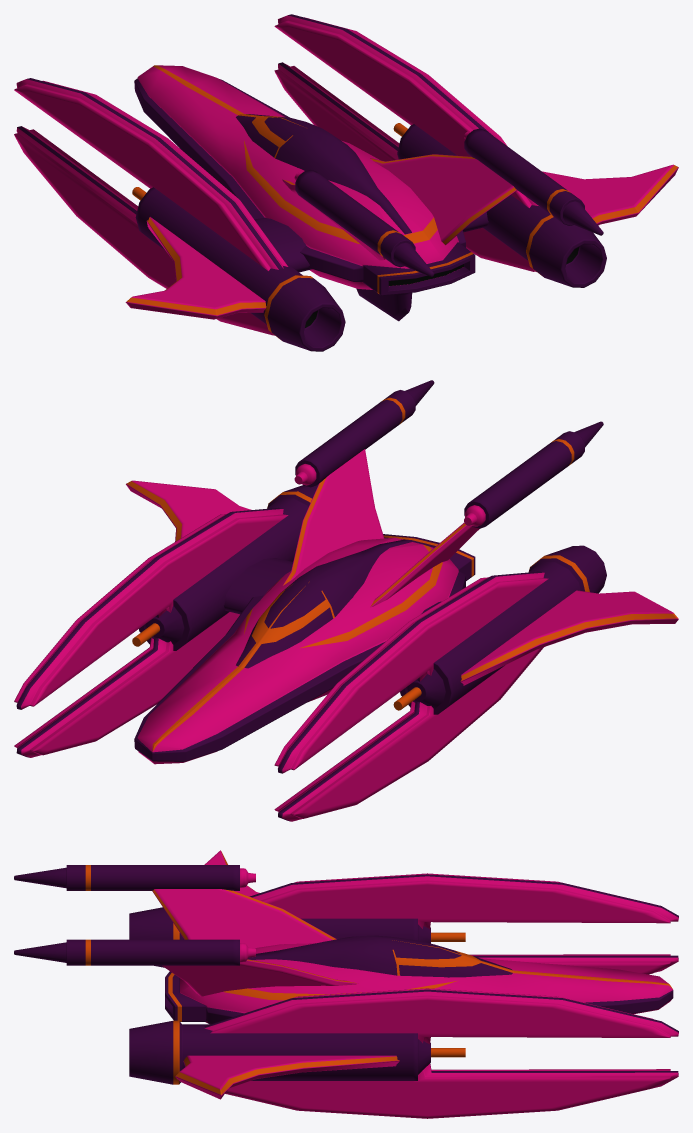
Rendered from AlienStarfighter13.obj.
The picture shows the model from 3 angles, top to bottom: view 1: azimuth 30°, elevation 25°; view 2: azimuth 150°, elevation 25°; view 3: azimuth 270°, elevation 25°; orthographic projection. The views are drawn at different scales.
Visible parts, largest first — view 1: Cylinder.003_Cylinder.005, Sphere_Sphere.002, Cylinder.001_Cylinder.006, Cube.002_Cube.003, Cylinder.005_Cylinder.011, Cube.003_Cube.004, Sphere.001_Sphere.003, Cylinder, Cylinder.006_Cylinder.007; view 2: Cylinder.003_Cylinder.005, Sphere_Sphere.002, Cylinder.001_Cylinder.006, Cube.002_Cube.003, Cylinder.005_Cylinder.011, Cube.003_Cube.004, Sphere.001_Sphere.003, Cylinder; view 3: Cylinder.003_Cylinder.005, Cylinder.001_Cylinder.006, Sphere_Sphere.002, Cylinder.005_Cylinder.011, Cube.003_Cube.004, Sphere.001_Sphere.003, Cube.002_Cube.003.
Part boxes in pixels (x1,y1,x2,y2): Cylinder.003_Cylinder.005: (14,14,538,335); Sphere_Sphere.002: (134,65,475,295); Cylinder.001_Cylinder.006: (132,123,606,351); Cube.002_Cube.003: (125,164,678,319); Cylinder.005_Cylinder.011: (294,128,603,276); Cube.003_Cube.004: (282,154,517,260); Sphere.001_Sphere.003: (236,114,411,234); Cylinder: (254,212,488,272); Cylinder.006_Cylinder.007: (356,288,412,321); Cylinder.003_Cylinder.005: (14,507,548,821); Sphere_Sphere.002: (134,534,475,764); Cylinder.001_Cylinder.006: (132,484,606,714); Cube.002_Cube.003: (126,480,678,685); Cylinder.005_Cylinder.011: (294,380,603,528); Cube.003_Cube.004: (282,449,479,607); Sphere.001_Sphere.003: (236,539,411,668); Cylinder: (224,558,441,614); Cylinder.003_Cylinder.005: (204,873,678,1118); Cylinder.001_Cylinder.006: (129,907,465,1084); Sphere_Sphere.002: (165,943,673,1024); Cylinder.005_Cylinder.011: (14,865,255,965); Cube.003_Cube.004: (152,889,359,996); Sphere.001_Sphere.003: (248,935,514,977); Cube.002_Cube.003: (175,850,399,1099).
Size of the model in its own units: 6.8 by 2.02 by 7.83.
